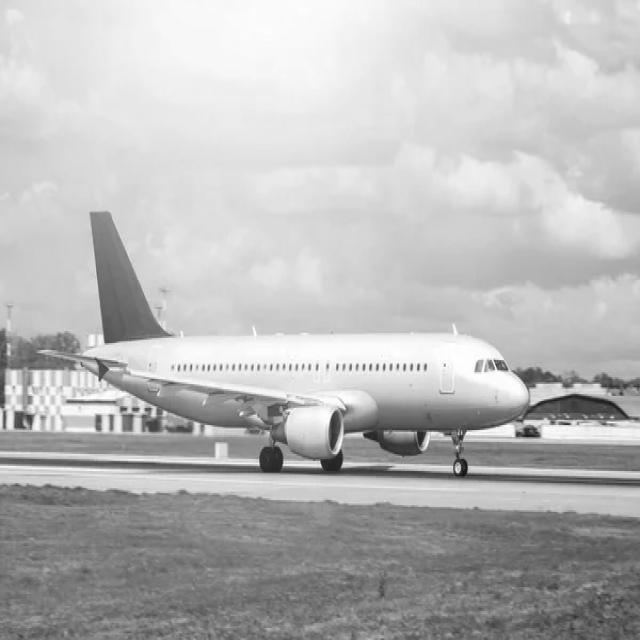Aircraft: (59, 205, 549, 483)
